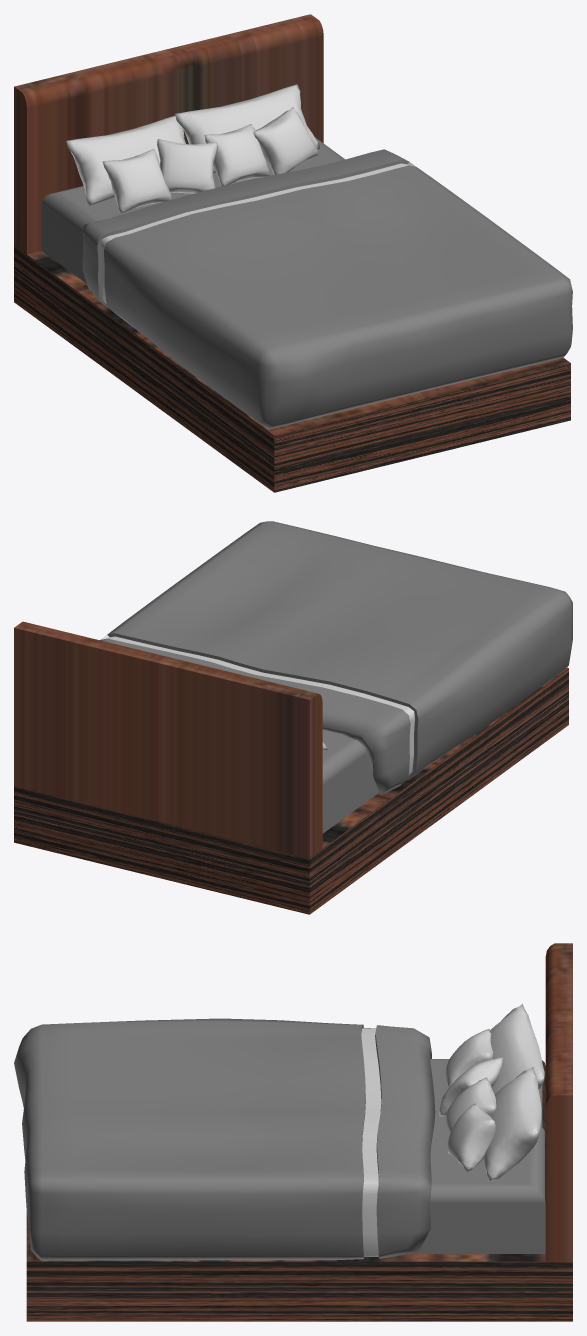
Rendered from bed.glb.
The picture shows the model from 3 angles, top to bottom: view 1: azimuth 30°, elevation 25°; view 2: azimuth 150°, elevation 25°; view 3: azimuth 270°, elevation 25°; orthographic projection. The views are drawn at different scales.
Visible parts, largest first — view 1: pCube8, pCube1, pCube3, pCube4, pCube2, pCube5, pCube7, pCube6; view 2: pCube1, pCube8; view 3: pCube8, pCube1, pCube4, pCube3, pCube7, pCube2, pCube5, pCube6.
Boxes of the visible parts, x1=… form: pCube8: x1=82, y1=149, x2=572, y2=429; pCube1: x1=14, y1=14, x2=570, y2=492; pCube3: x1=66, y1=115, x2=185, y2=205; pCube4: x1=175, y1=84, x2=320, y2=173; pCube2: x1=102, y1=149, x2=171, y2=213; pCube5: x1=157, y1=139, x2=217, y2=193; pCube7: x1=253, y1=107, x2=318, y2=174; pCube6: x1=204, y1=124, x2=269, y2=186; pCube1: x1=14, y1=621, x2=568, y2=914; pCube8: x1=100, y1=521, x2=572, y2=794; pCube8: x1=14, y1=1018, x2=435, y2=1260; pCube1: x1=26, y1=943, x2=572, y2=1321; pCube4: x1=483, y1=1067, x2=541, y2=1181; pCube3: x1=490, y1=1004, x2=544, y2=1094; pCube7: x1=447, y1=1103, x2=495, y2=1171; pCube2: x1=445, y1=1029, x2=493, y2=1087; pCube5: x1=439, y1=1057, x2=502, y2=1116; pCube6: x1=446, y1=1077, x2=496, y2=1132.
Bounding box in the file's own units: 0.0343 × 0.0216 × 0.0483.
3 materials, 1 textured.
